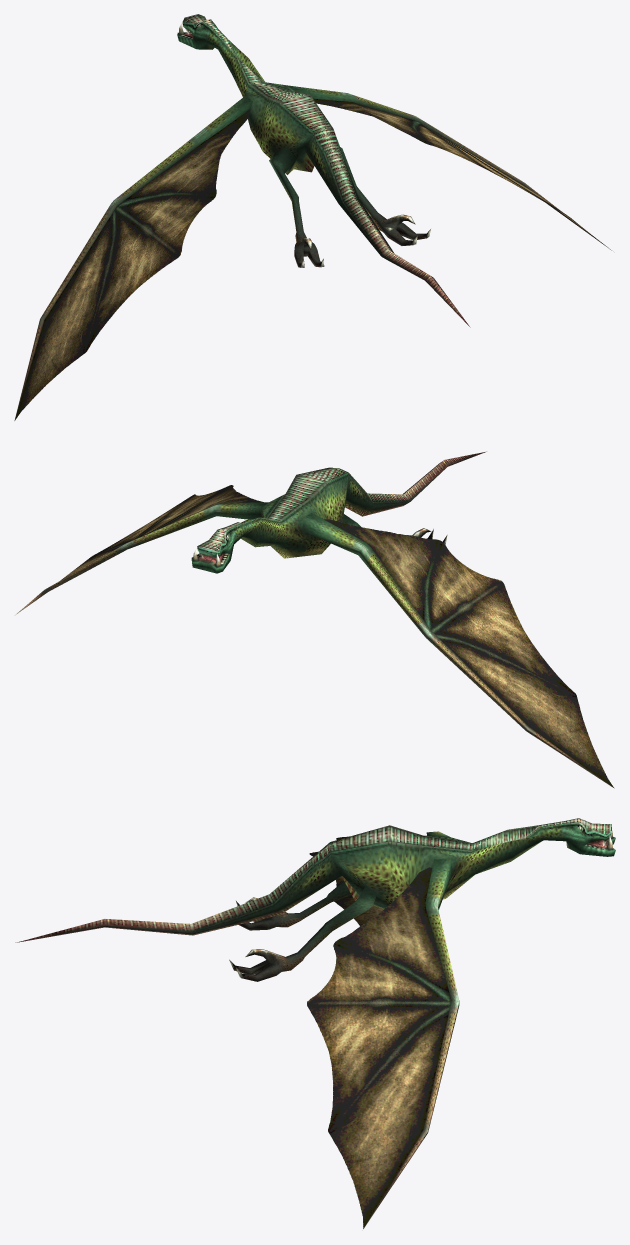
Rendered from xerxes.glb.
The picture shows the model from 3 angles, top to bottom: view 1: azimuth 30°, elevation 25°; view 2: azimuth 150°, elevation 25°; view 3: azimuth 270°, elevation 25°; orthographic projection. The views are drawn at different scales.
Parts seen in each view (by area): view 1: xerxes; view 2: xerxes; view 3: xerxes.
Part boxes in pixels (x1,y1,x2,y2): xerxes: [14, 14, 611, 420]; xerxes: [16, 451, 614, 788]; xerxes: [15, 818, 615, 1228].
Bounding box in the file's own units: 13 × 5.36 × 10.57.
2 materials, 2 textured.
